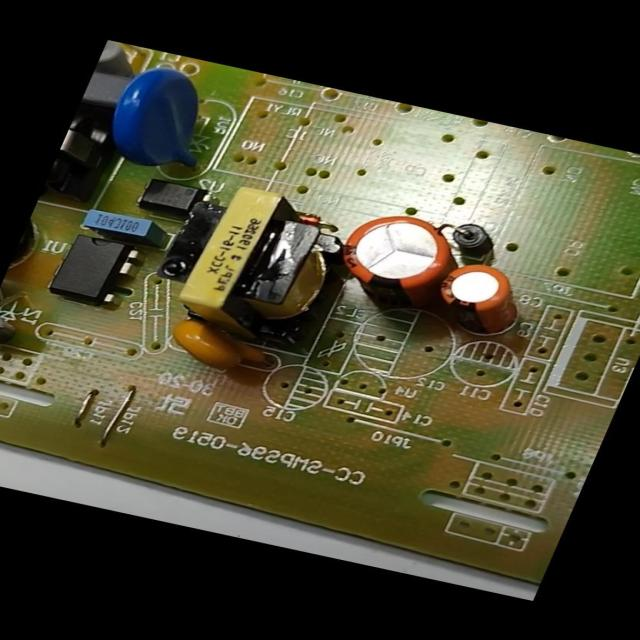Cap1: (321, 204, 466, 316)
Cap2: (424, 257, 536, 339)
MOSFET: (42, 228, 142, 306)
Mov: (92, 58, 233, 175)
Resistor: (94, 40, 141, 78)
Transformer: (148, 176, 356, 349), (43, 114, 114, 197)
